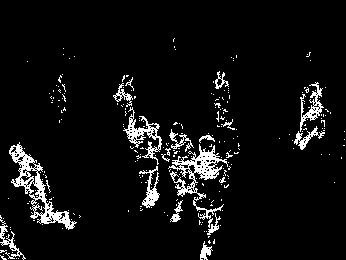person: (8, 142, 75, 230), (191, 136, 229, 258), (161, 121, 198, 223), (126, 117, 164, 212), (298, 84, 324, 155), (213, 70, 235, 134), (114, 74, 136, 128), (48, 73, 68, 124)
